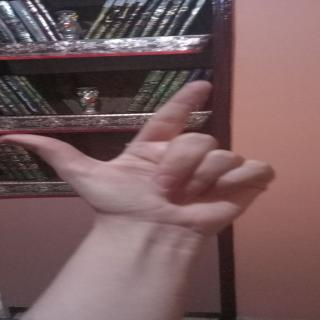LAAM: (9, 71, 280, 218)
